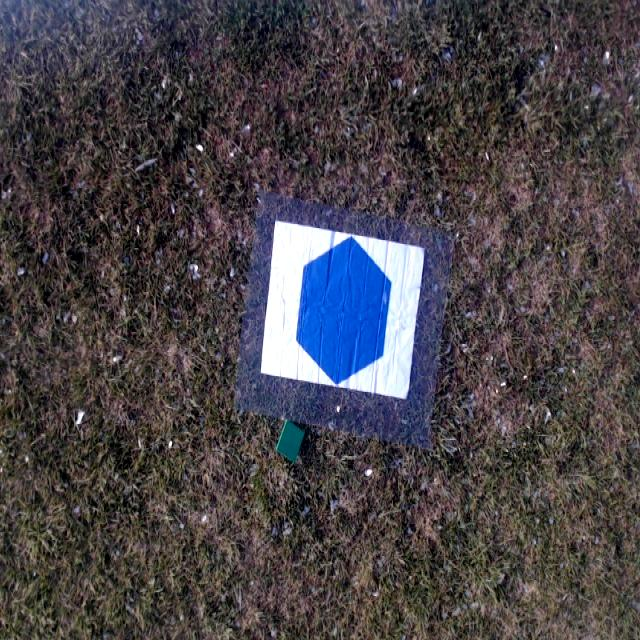blue_hexagon: (296, 235, 392, 386)
